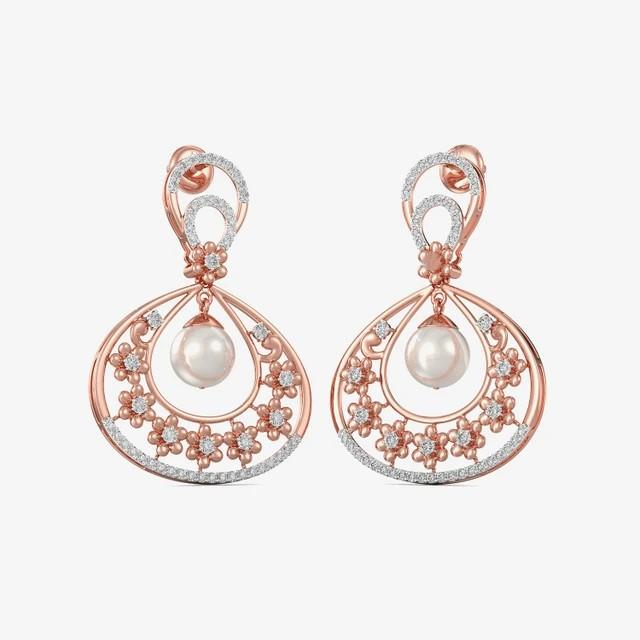missing gem: (426, 253, 444, 271)
